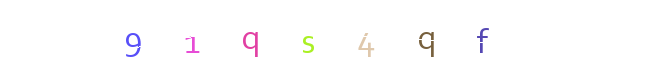1: (203, 0, 283, 80)
4: (287, 0, 367, 80)
9: (192, 0, 272, 80)
F: (388, 0, 468, 80)
Q: (246, 0, 326, 80), (308, 0, 388, 80)
S: (268, 0, 348, 80)
